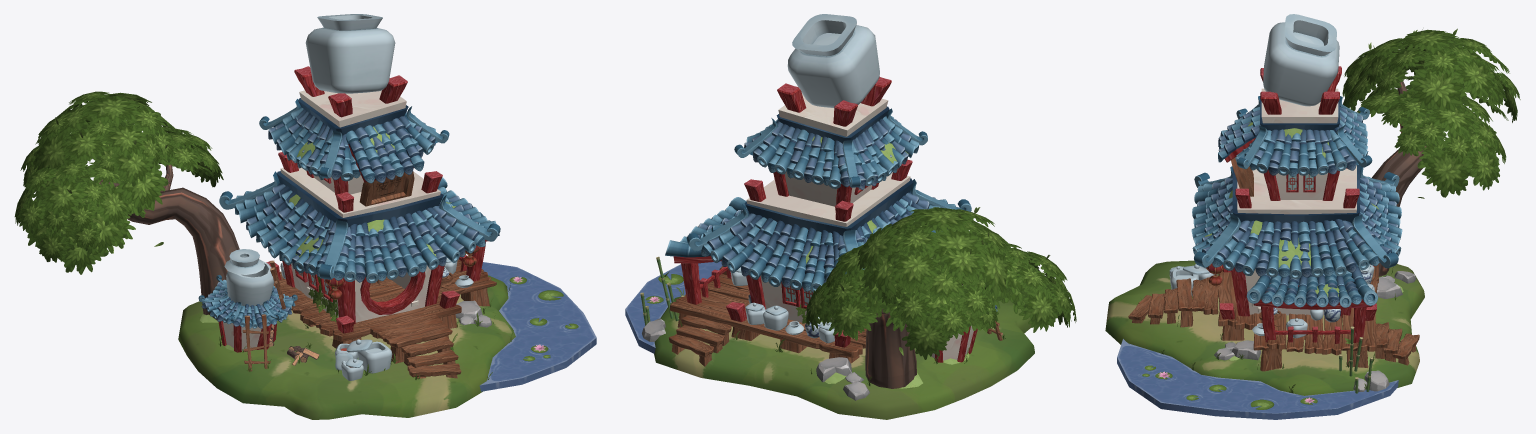
3 views of the same model, side by side, from view 1: azimuth 30°, elevation 25°; view 2: azimuth 150°, elevation 25°; view 3: azimuth 270°, elevation 25° (orthographic). The views are drawn at different scales.
Visible parts, largest first — view 1: Leaves, Ground1, Level0_Rooftop, Foundation, Water1, Level1_Rooftop, Deco_Vase, Trunk, ExtraRooftop, Level0_Walls, Roof, Top_Form (+11 smaller); view 2: Leaves, Ground1, Level0_Rooftop, Level1_Rooftop, Deco_Vase, Foundation, Trunk, Water1, Level1_Walls, Top_Deco_Fence, Side_Rooftop, Level0_Walls (+7 smaller); view 3: Leaves, Level0_Rooftop, Ground1, Foundation, Water1, Level1_Rooftop, Deco_Vase, Side_Rooftop, Level1_Walls, SideFence, Trunk, ExtraRooftop (+11 smaller).
Part boxes in pixels (left/top/right/bottom): Leaves: left=14, top=91, right=223, bottom=274; Ground1: left=178, top=275, right=515, bottom=419; Level0_Rooftop: left=219, top=167, right=500, bottom=283; Foundation: left=273, top=259, right=496, bottom=378; Water1: left=479, top=262, right=596, bottom=391; Level1_Rooftop: left=259, top=90, right=449, bottom=181; Deco_Vase: left=305, top=14, right=395, bottom=93; Trunk: left=99, top=144, right=239, bottom=320; ExtraRooftop: left=345, top=118, right=424, bottom=183; Level0_Walls: left=282, top=260, right=444, bottom=324; Roof: left=198, top=275, right=297, bottom=328; Top_Form: left=224, top=249, right=274, bottom=306; Leaves: left=805, top=207, right=1076, bottom=364; Ground1: left=654, top=296, right=1034, bottom=419; Level0_Rooftop: left=686, top=172, right=971, bottom=292; Level1_Rooftop: left=734, top=93, right=927, bottom=189; Deco_Vase: left=787, top=14, right=879, bottom=107; Foundation: left=669, top=266, right=866, bottom=366; Trunk: left=865, top=284, right=962, bottom=388; Water1: left=625, top=261, right=722, bottom=353; Level1_Walls: left=773, top=171, right=878, bottom=206; Top_Deco_Fence: left=777, top=76, right=891, bottom=126; Side_Rooftop: left=665, top=197, right=746, bottom=263; Level0_Walls: left=746, top=275, right=831, bottom=323; Leaves: left=1342, top=28, right=1520, bottom=198; Level0_Rooftop: left=1191, top=165, right=1402, bottom=279; Ground1: left=1105, top=260, right=1424, bottom=395; Foundation: left=1128, top=264, right=1419, bottom=371; Water1: left=1117, top=339, right=1398, bottom=419; Level1_Rooftop: left=1235, top=88, right=1372, bottom=176; Deco_Vase: left=1263, top=14, right=1339, bottom=106; Side_Rooftop: left=1246, top=143, right=1378, bottom=309; Level1_Walls: left=1263, top=169, right=1339, bottom=200; SideFence: left=1261, top=306, right=1366, bottom=343; Trunk: left=1372, top=81, right=1425, bottom=276; ExtraRooftop: left=1218, top=106, right=1260, bottom=162.
Size of the model in its own units: 2590 by 1669 by 2046.
Materials: 3 (3 with a texture image).
